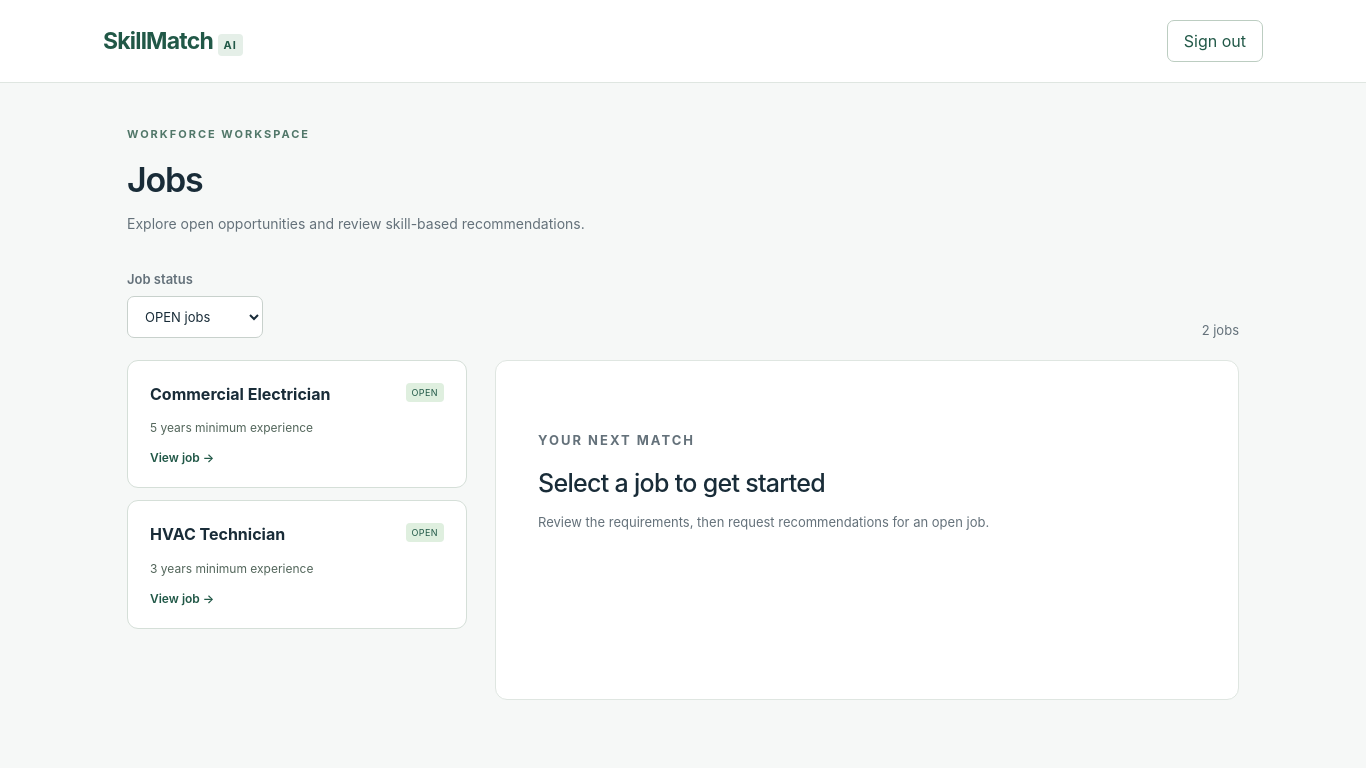
updated non-OPEN detail prevents recommendation requests
Click the button "Commercial Electrician" at (297, 424), box [127,360,467,488]
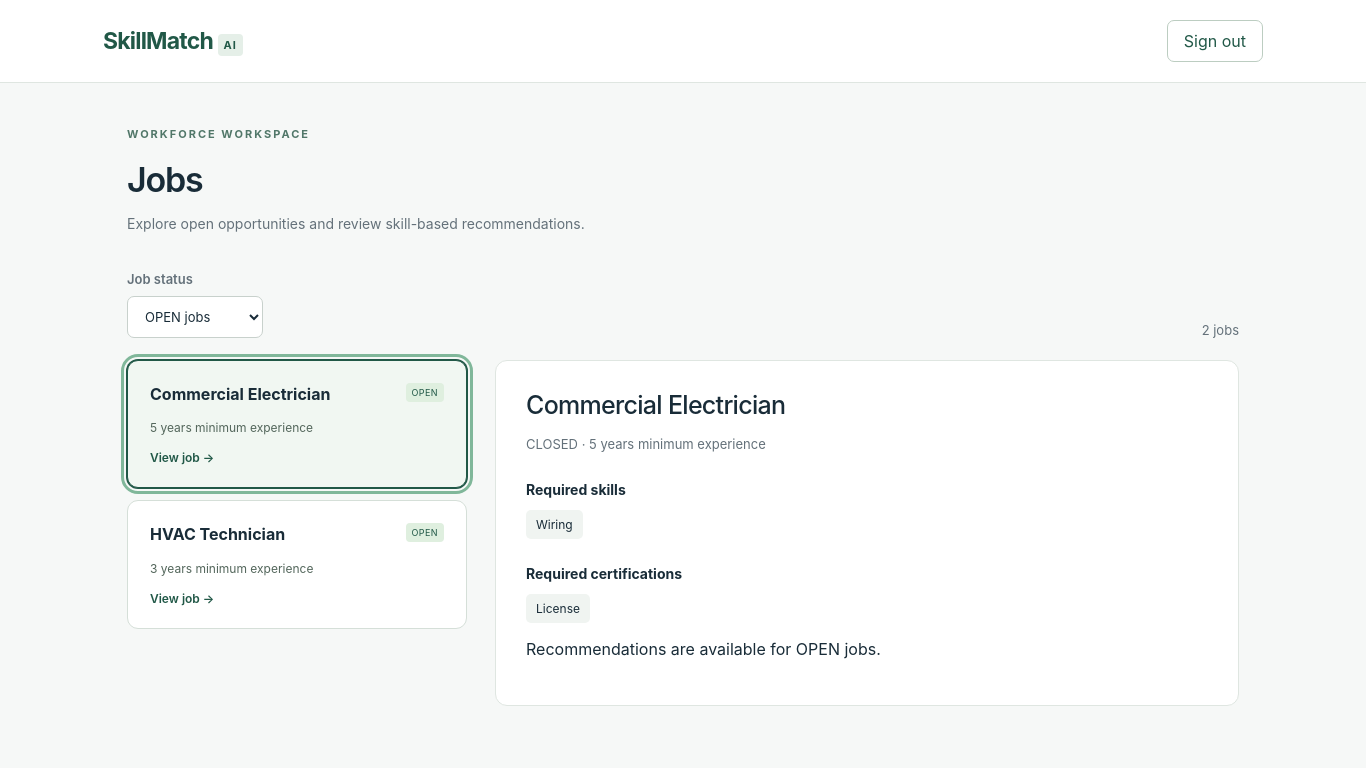
Expected: the text "Recommendations are available for OPEN jobs." is shown, [526,639,881,659]
Expected: the text "request recommendations" is gone
